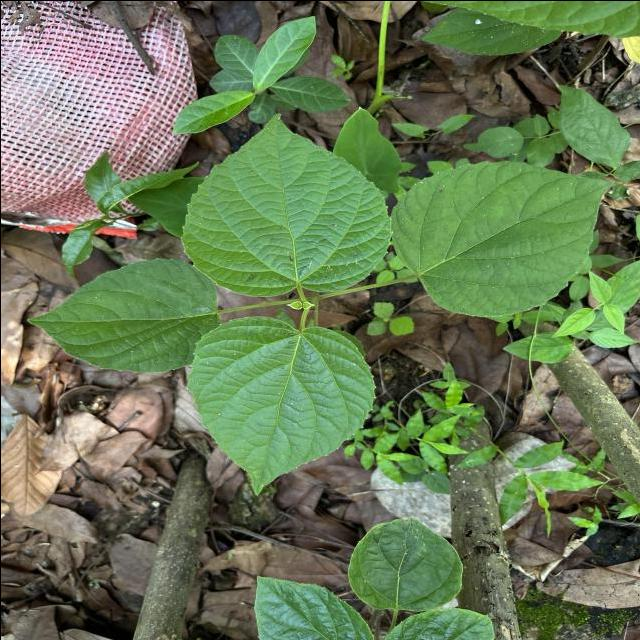Clerodendrum infortunatum: (177, 110, 394, 298), (389, 158, 615, 318), (184, 314, 377, 496), (24, 255, 220, 374)
